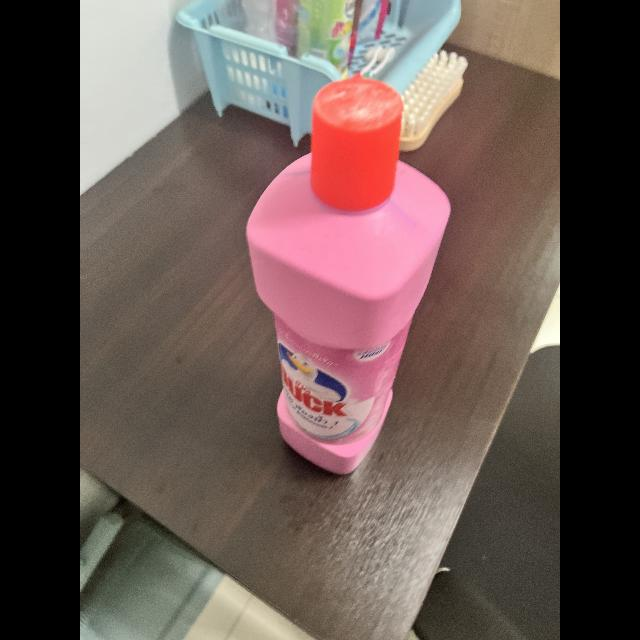chemical_plastic_bottle: (242, 72, 466, 480)
